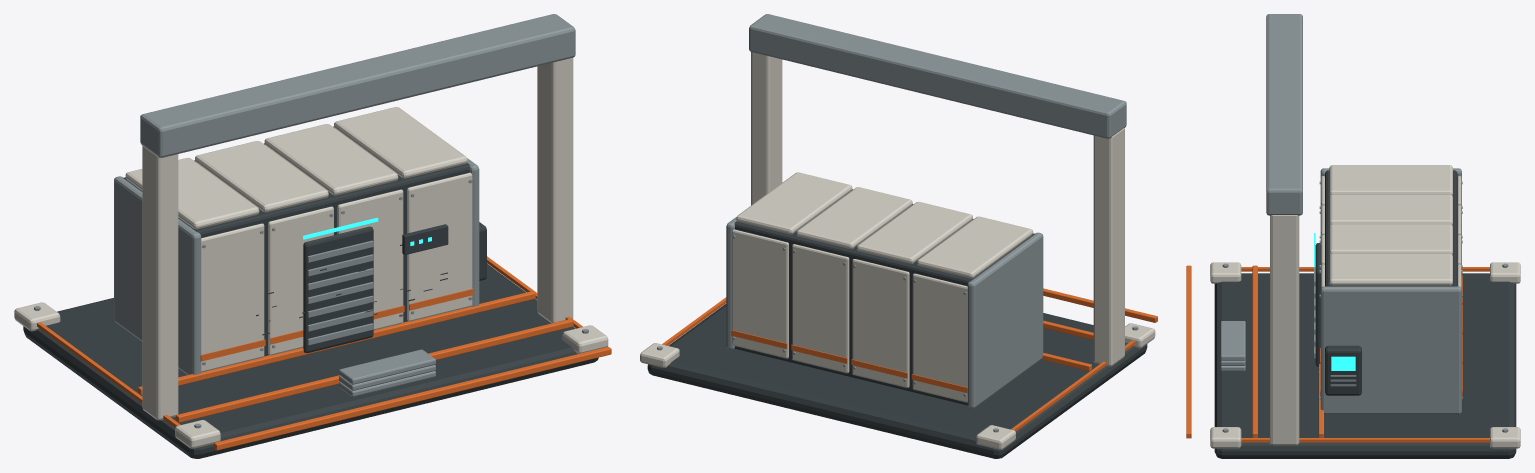
Rendered from SM_CustomFabricationCenter_Body.fbx.
3 renders of one model, left to right at view 1: azimuth 30°, elevation 25°; view 2: azimuth 150°, elevation 25°; view 3: azimuth 270°, elevation 25°, orthographic. The views are drawn at different scales.
Visible parts, largest first — view 1: SM_CustomFabricationCenter_Body; view 2: SM_CustomFabricationCenter_Body; view 3: SM_CustomFabricationCenter_Body.
Boxes of the visible parts, x1,y1,x2,y2 form: SM_CustomFabricationCenter_Body: (14,14,611,458); SM_CustomFabricationCenter_Body: (640,14,1157,458); SM_CustomFabricationCenter_Body: (1186,14,1520,458).
Size of the model in its own units: 572 by 455 by 410.
